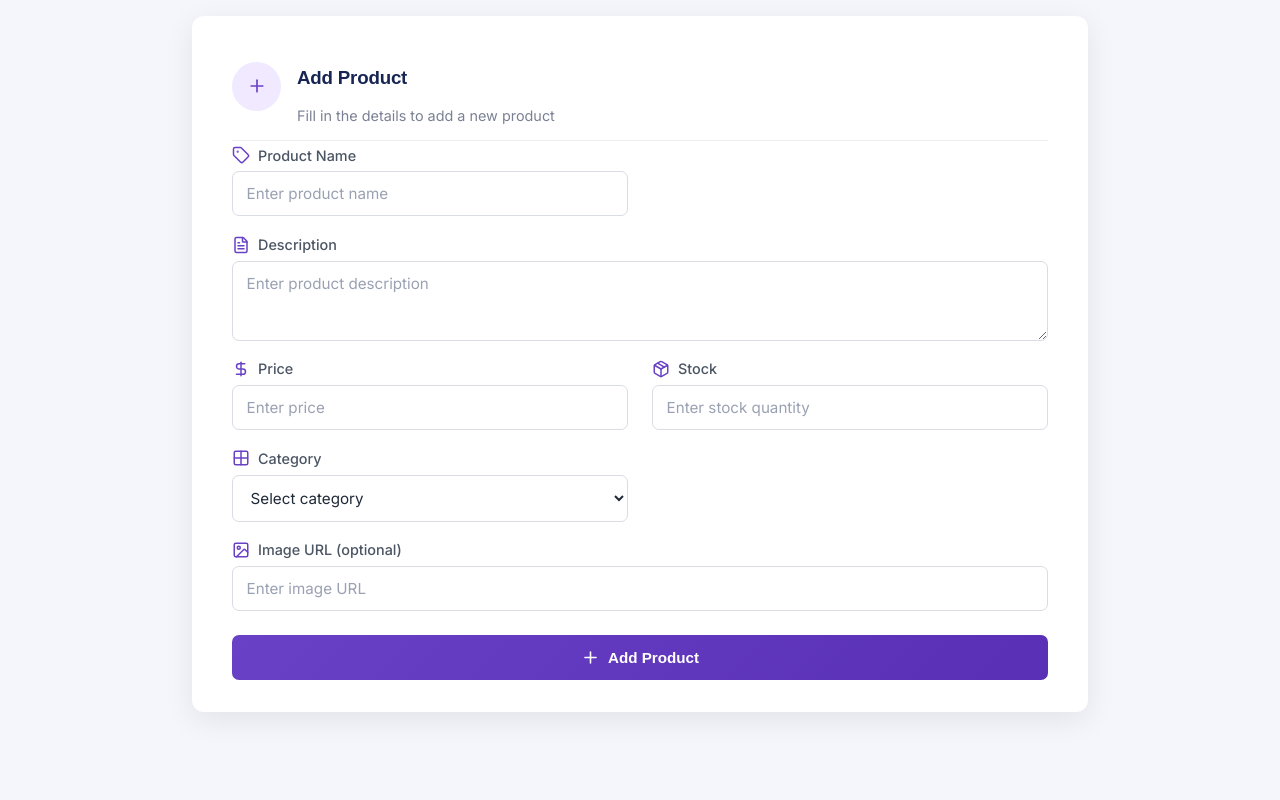
Test case: AddProduct page › shows an error when product creation fails
Step 1. Type "Laptop" into the field labelled "Product Name" → (430, 194), box [232, 171, 628, 216]
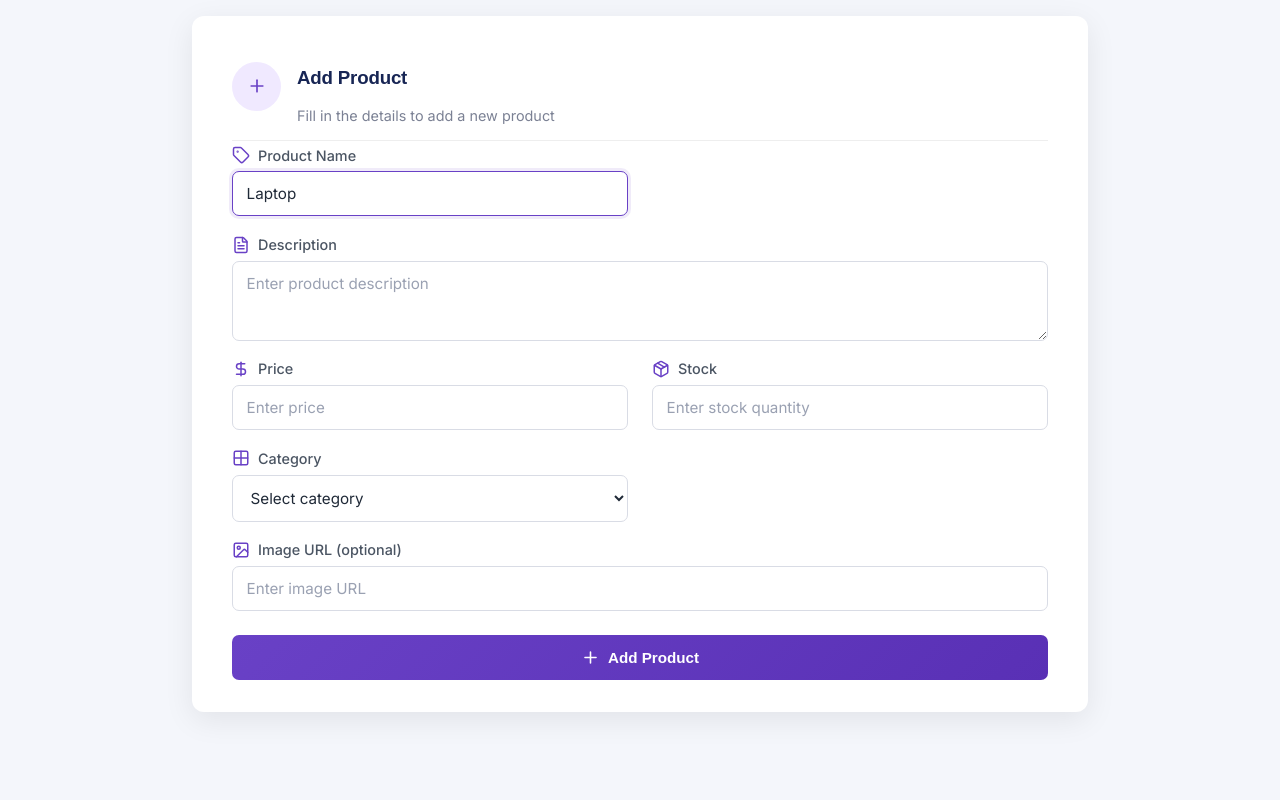
Step 2. Type "50000" into the number field labelled "Price" → (430, 408), box [232, 385, 628, 430]
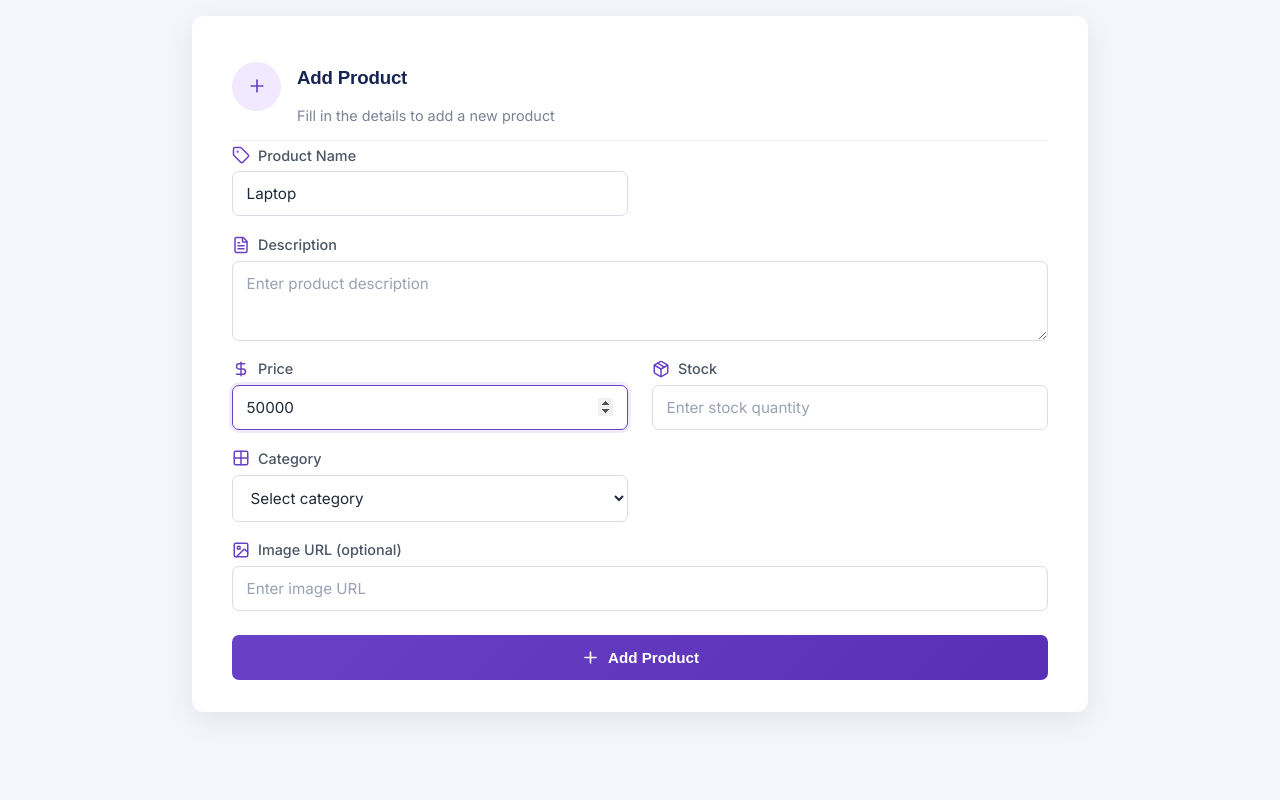
Step 3. Type "10" into the number field labelled "Stock" → (850, 408), box [652, 385, 1048, 430]
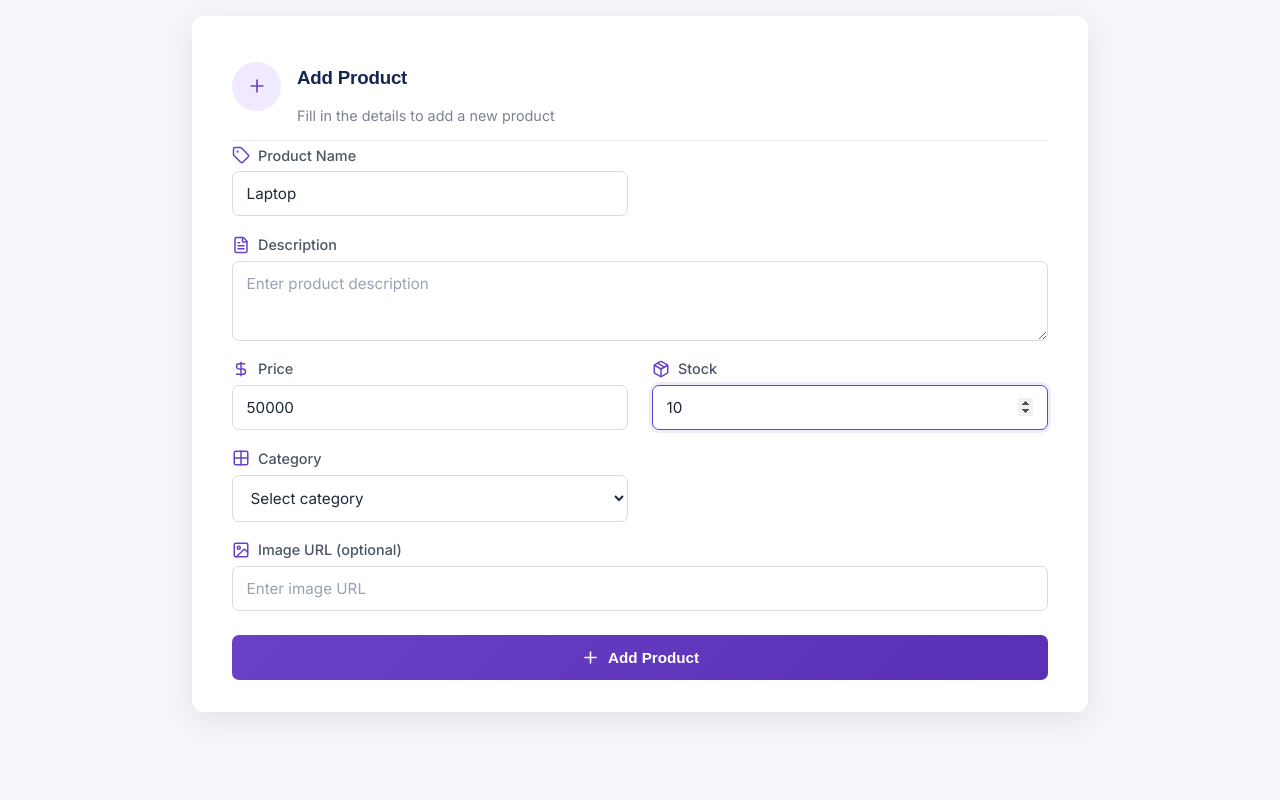
Step 4. Select "Electronics" in the dropdown labelled "Category" → (430, 498), box [232, 474, 628, 522]
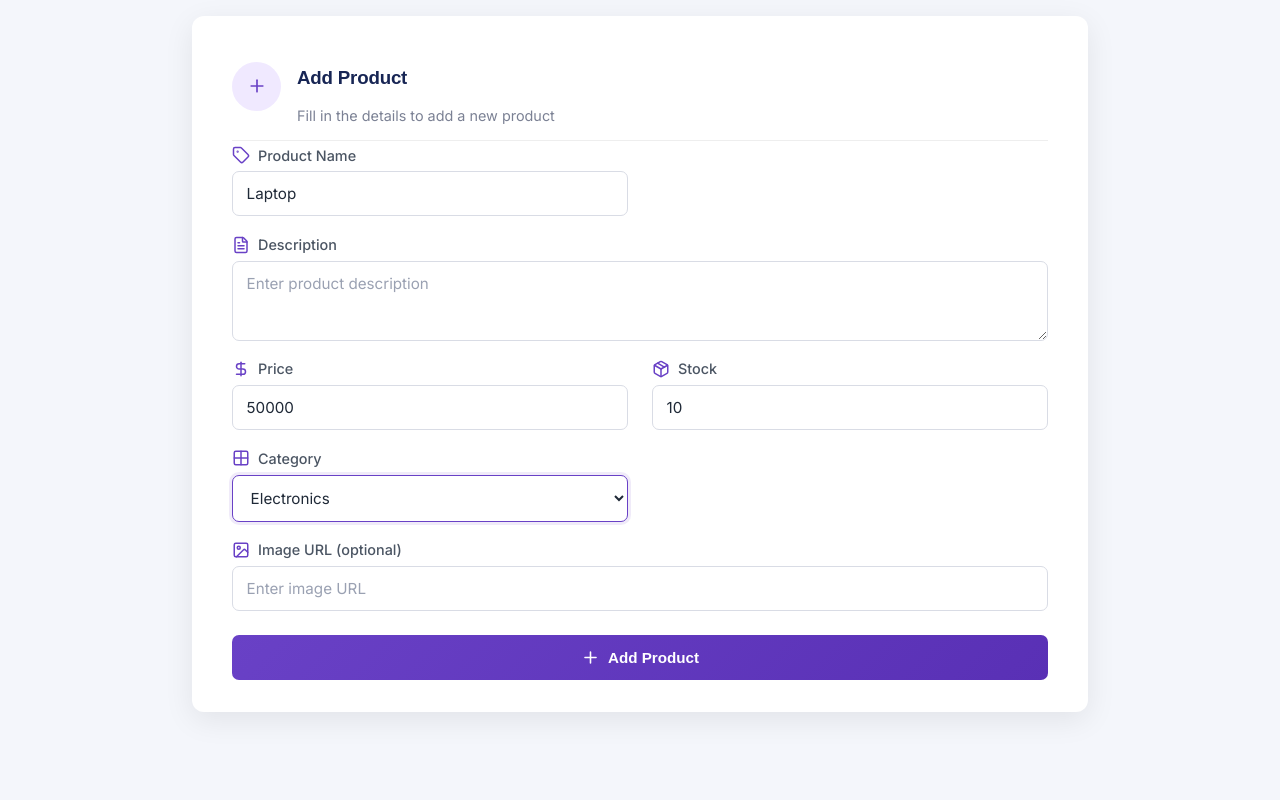
Step 5. Click the button "Add Product" → (640, 657), box [232, 635, 1048, 680]
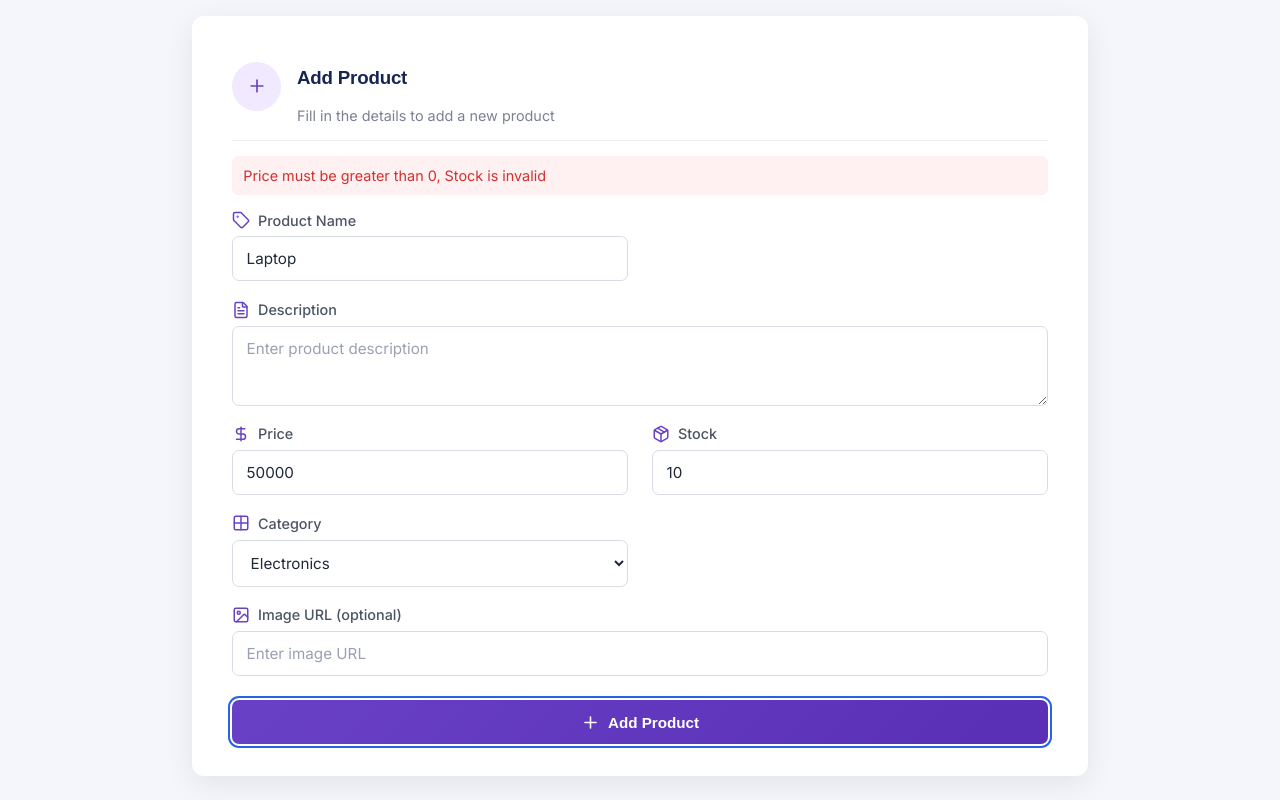
Now the text "Price must be greater than 0, Stock is invalid" is shown, box [243, 167, 546, 184]
